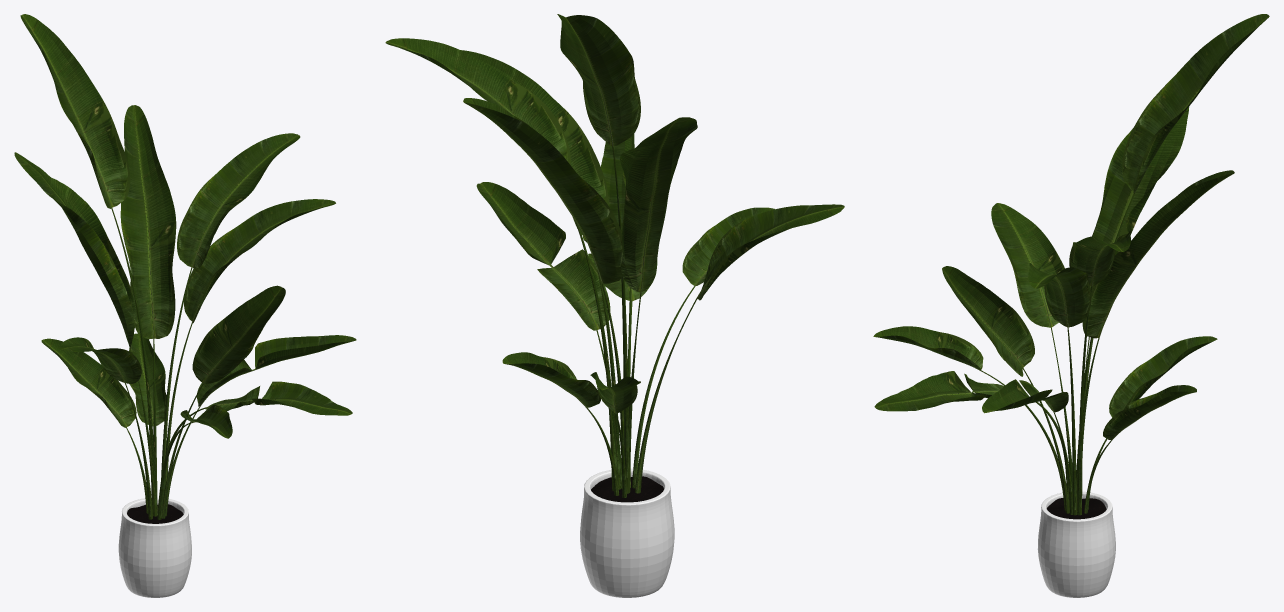
The model's file is plant_4.glb.
3 renders of one model, left to right at view 1: azimuth 30°, elevation 25°; view 2: azimuth 150°, elevation 25°; view 3: azimuth 270°, elevation 25°, orthographic. The views are drawn at different scales.
Visible parts, largest first — view 1: mesh_2_ROOT__Component_4756__Tropical_Layer0_79_104_39_ds, mesh_0_ROOT__Component_4756__pot_006_Layer0, mesh_3_ROOT__Component_4756__Tropical_Layer0_103_125_63_ds, mesh_1_ROOT__Component_4756__ground_006_Layer0; view 2: mesh_2_ROOT__Component_4756__Tropical_Layer0_79_104_39_ds, mesh_0_ROOT__Component_4756__pot_006_Layer0, mesh_3_ROOT__Component_4756__Tropical_Layer0_103_125_63_ds, mesh_1_ROOT__Component_4756__ground_006_Layer0; view 3: mesh_2_ROOT__Component_4756__Tropical_Layer0_79_104_39_ds, mesh_0_ROOT__Component_4756__pot_006_Layer0, mesh_3_ROOT__Component_4756__Tropical_Layer0_103_125_63_ds, mesh_1_ROOT__Component_4756__ground_006_Layer0.
Boxes of the visible parts, x1=… form: mesh_2_ROOT__Component_4756__Tropical_Layer0_79_104_39_ds: x1=14, y1=14, x2=356, y2=519; mesh_0_ROOT__Component_4756__pot_006_Layer0: x1=118, y1=497, x2=191, y2=597; mesh_3_ROOT__Component_4756__Tropical_Layer0_103_125_63_ds: x1=28, y1=46, x2=334, y2=431; mesh_1_ROOT__Component_4756__ground_006_Layer0: x1=127, y1=504, x2=183, y2=523; mesh_2_ROOT__Component_4756__Tropical_Layer0_79_104_39_ds: x1=385, y1=14, x2=844, y2=497; mesh_0_ROOT__Component_4756__pot_006_Layer0: x1=580, y1=468, x2=674, y2=597; mesh_3_ROOT__Component_4756__Tropical_Layer0_103_125_63_ds: x1=407, y1=27, x2=825, y2=413; mesh_1_ROOT__Component_4756__ground_006_Layer0: x1=591, y1=476, x2=663, y2=502; mesh_2_ROOT__Component_4756__Tropical_Layer0_79_104_39_ds: x1=873, y1=14, x2=1269, y2=515; mesh_0_ROOT__Component_4756__pot_006_Layer0: x1=1037, y1=491, x2=1115, y2=597; mesh_3_ROOT__Component_4756__Tropical_Layer0_103_125_63_ds: x1=891, y1=24, x2=1260, y2=439; mesh_1_ROOT__Component_4756__ground_006_Layer0: x1=1046, y1=498, x2=1106, y2=519.
Bounding box in the file's own units: 1066 × 1771 × 1159.
Materials: 4 (3 with a texture image).
